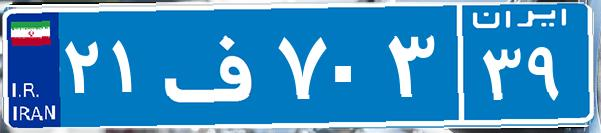0: (330, 28, 385, 110)
1: (110, 28, 158, 105)
2: (57, 26, 110, 107)
3: (385, 28, 445, 110), (475, 38, 525, 113)
7: (273, 28, 330, 110)
9: (525, 38, 570, 115)
ف: (158, 15, 273, 115)
